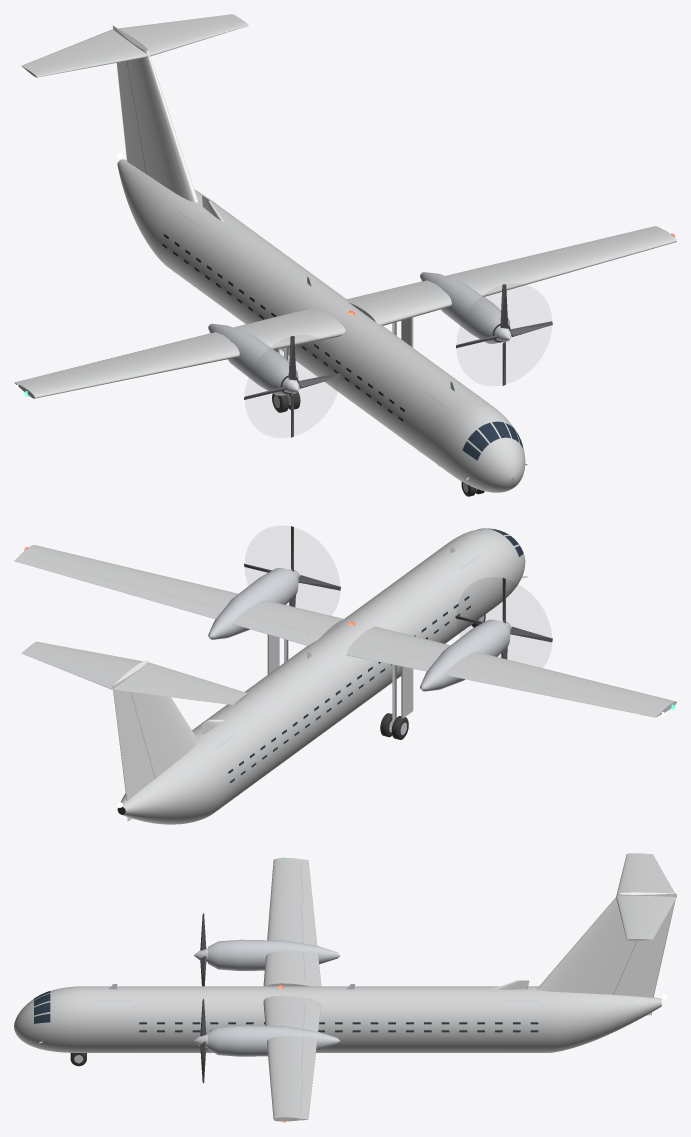
The picture shows the model from 3 angles, top to bottom: view 1: azimuth 30°, elevation 25°; view 2: azimuth 150°, elevation 25°; view 3: azimuth 270°, elevation 25°; orthographic projection. The views are drawn at different scales.
Parts seen in each view (by area): view 1: airframe, prop (×2), gear; view 2: airframe, gear, prop (×2); view 3: airframe.
Part boxes in pixels (<box>): airframe: <box>14,14,676,492</box>; prop (×2): <box>244,284,552,437</box>; gear: <box>272,317,484,496</box>; airframe: <box>14,528,676,824</box>; gear: <box>267,614,485,739</box>; prop (×2): <box>244,526,552,659</box>; airframe: <box>14,853,676,1122</box>.
Bounding box in the file's own units: 18.52 × 5.58 × 19.76.
